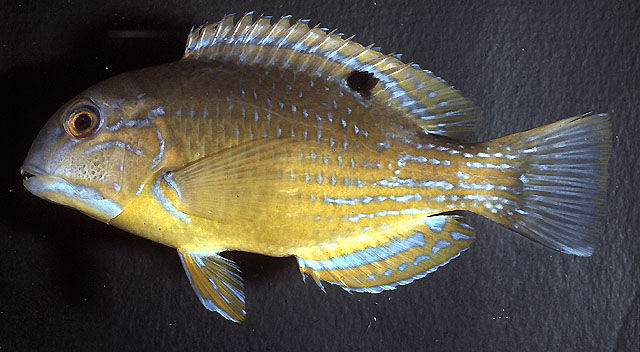fish: (21, 11, 615, 324)
